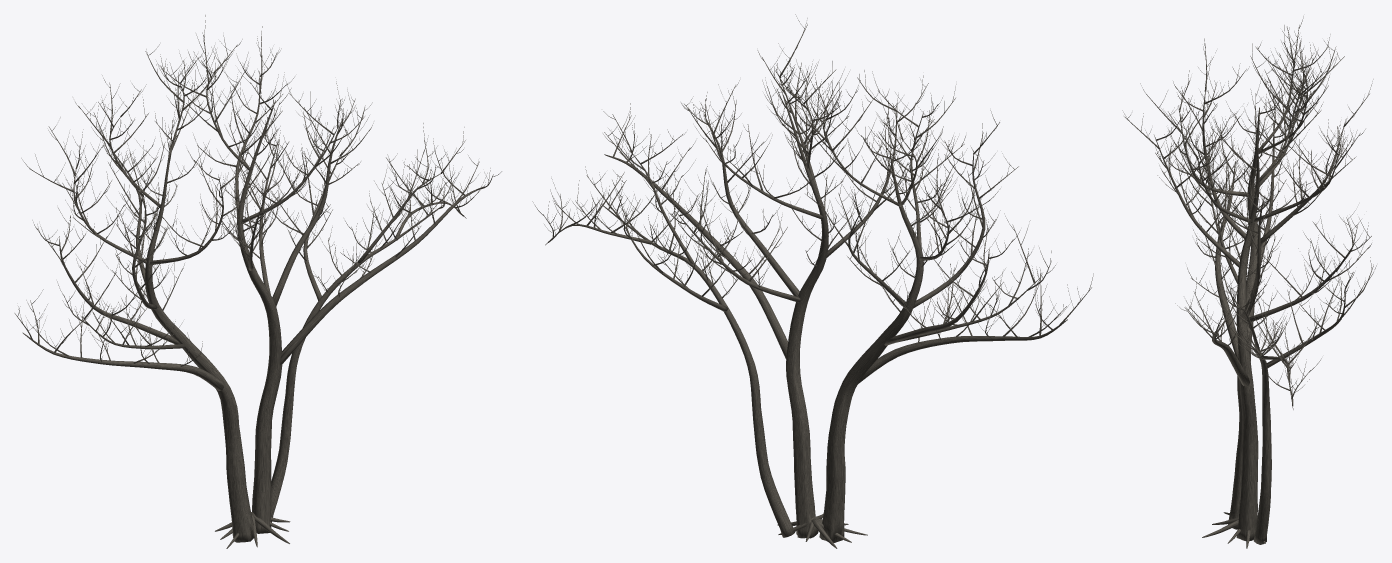
The model's file is magnolia-branches.glb.
3 renders of one model, left to right at view 1: azimuth 30°, elevation 25°; view 2: azimuth 150°, elevation 25°; view 3: azimuth 270°, elevation 25°, orthographic. The views are drawn at different scales.
Parts seen in each view (by area): view 1: Tree_Wood; view 2: Tree_Wood; view 3: Tree_Wood.
Boxes of the visible parts, bbox=[...] form: Tree_Wood: bbox=[14, 15, 501, 548]; Tree_Wood: bbox=[532, 14, 1093, 548]; Tree_Wood: bbox=[1122, 16, 1376, 548].
Bounding box in the file's own units: 6.85 × 6.41 × 3.09.
1 material, 1 textured.
